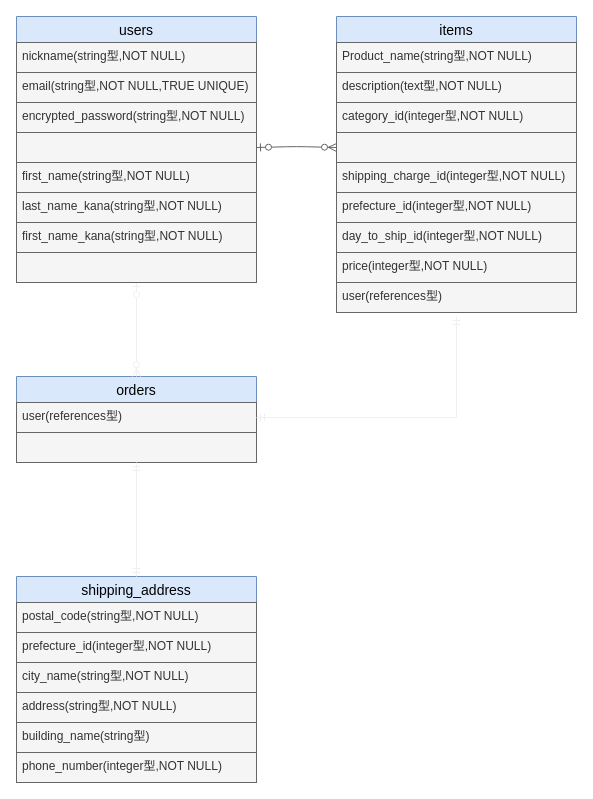
The diagram is 593 pixels wide and 799 high, and some of its shapes have lost their labels. The centre of each missing label's shape, as x and y in pixels:
"birth_date(date型,NOT NULL)" belongs at (136,267).
"item(references型)" belongs at (136,447).
"last_name(string型,NOT NULL)" belongs at (136,147).
"status_id(integer型,NOT NULL)" belongs at (456,147).
